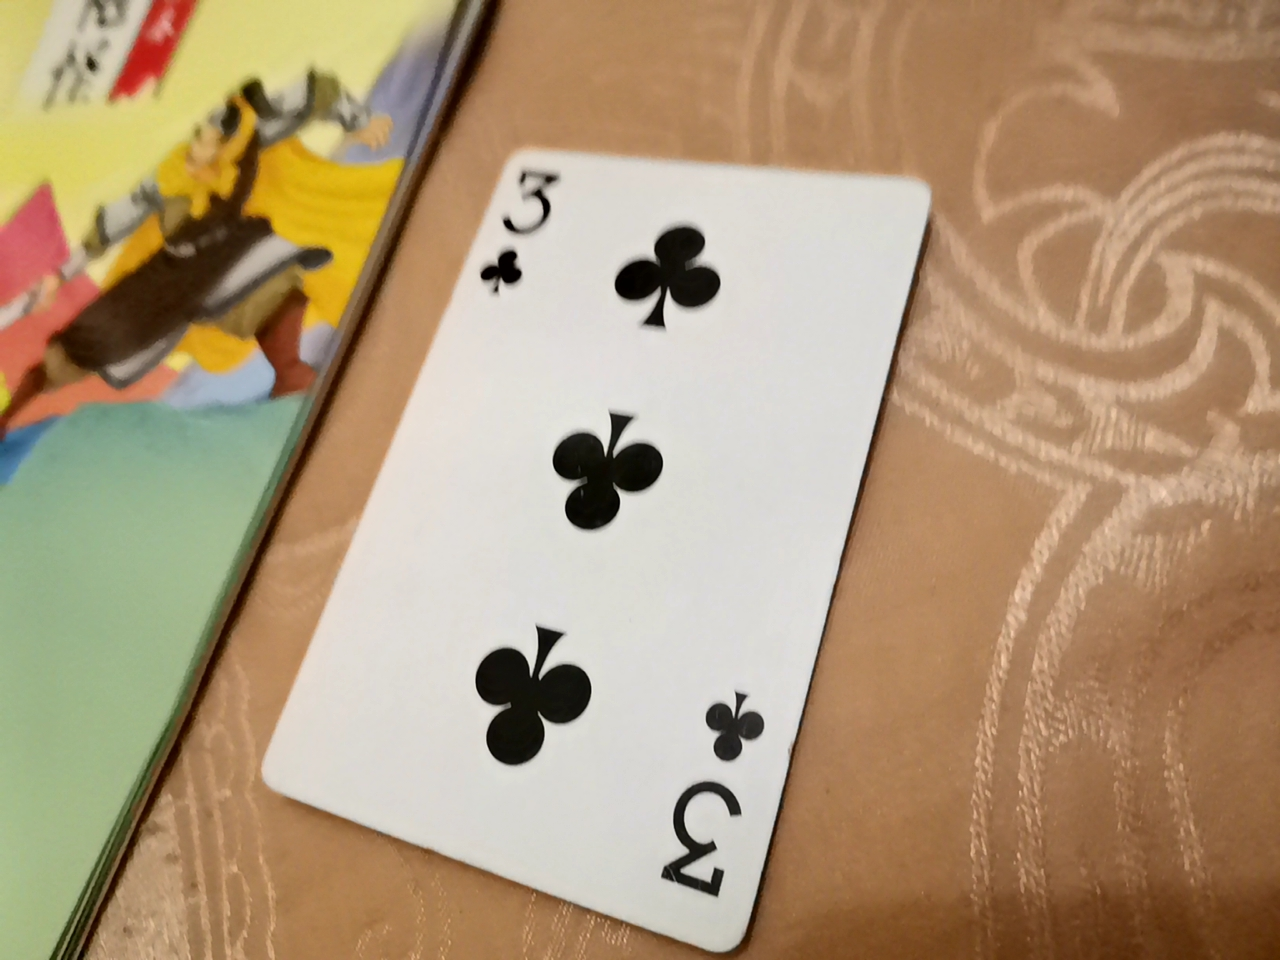mh 3: (247, 24, 946, 899)
